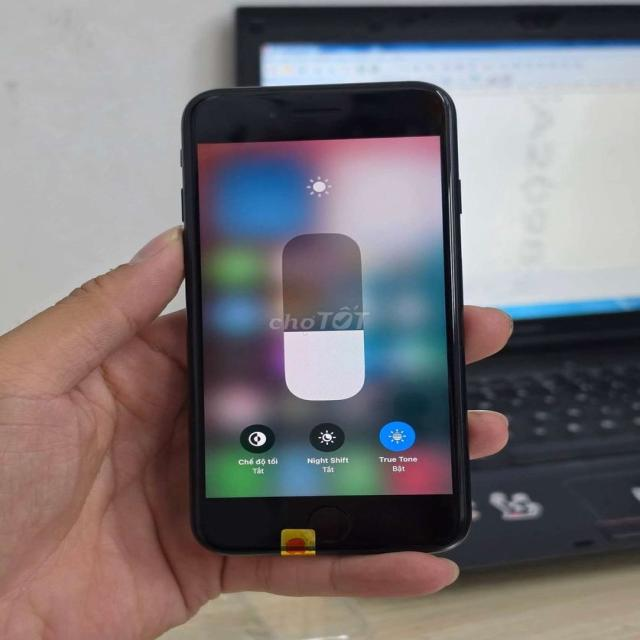scratch: (427, 84, 455, 110), (194, 88, 223, 104)
